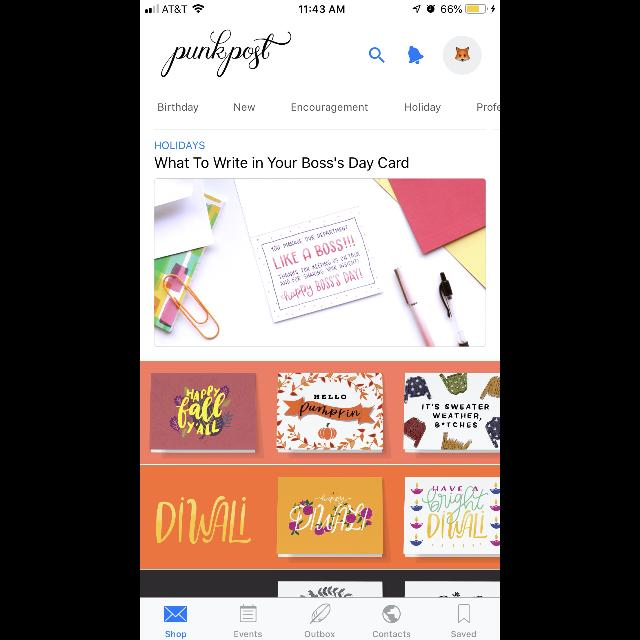icon: (165, 606, 188, 622), (240, 604, 256, 622), (408, 47, 424, 65), (458, 604, 469, 622), (370, 48, 384, 62)
image: (154, 179, 486, 347), (276, 477, 384, 557), (150, 373, 256, 453), (277, 373, 383, 453), (402, 372, 500, 452), (404, 477, 500, 557), (161, 30, 291, 78), (156, 496, 250, 544), (442, 35, 482, 75), (382, 604, 402, 624), (310, 604, 330, 624)
text: (155, 157, 409, 171), (292, 103, 368, 113), (159, 103, 199, 113), (155, 142, 205, 150), (405, 103, 441, 113), (373, 630, 411, 638), (305, 630, 335, 638), (452, 630, 476, 638), (478, 103, 500, 111), (234, 103, 256, 111), (166, 631, 187, 639), (234, 631, 262, 637)
uppertaskbar: (140, 0, 500, 14)
